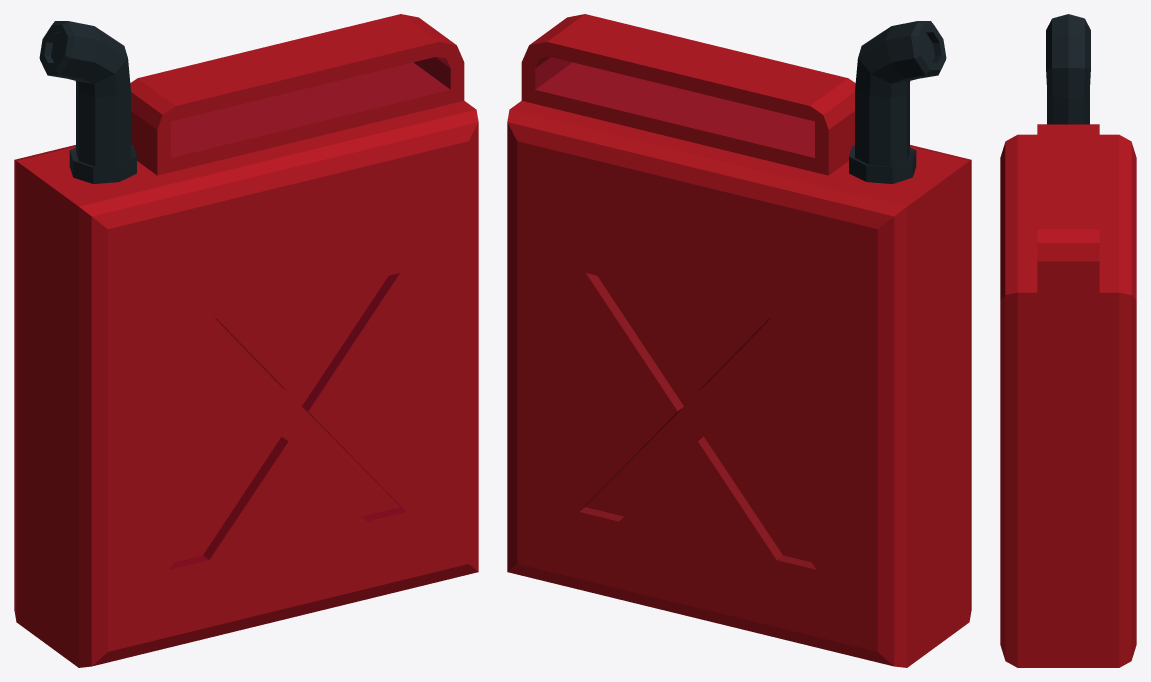
File: gas_can.glb
The picture shows the model from 3 angles, left to right: view 1: azimuth 30°, elevation 25°; view 2: azimuth 150°, elevation 25°; view 3: azimuth 270°, elevation 25°; orthographic projection. The views are drawn at different scales.
Parts seen in each view (by area): view 1: gas_can; view 2: gas_can; view 3: gas_can.
Part boxes in pixels (x1,y1,x2,y2): gas_can: [14, 14, 478, 667]; gas_can: [507, 14, 971, 667]; gas_can: [1000, 14, 1136, 667].
Bounding box in the file's own units: 2.01 × 2.98 × 0.7291.
Materials: 1 (1 with a texture image).
